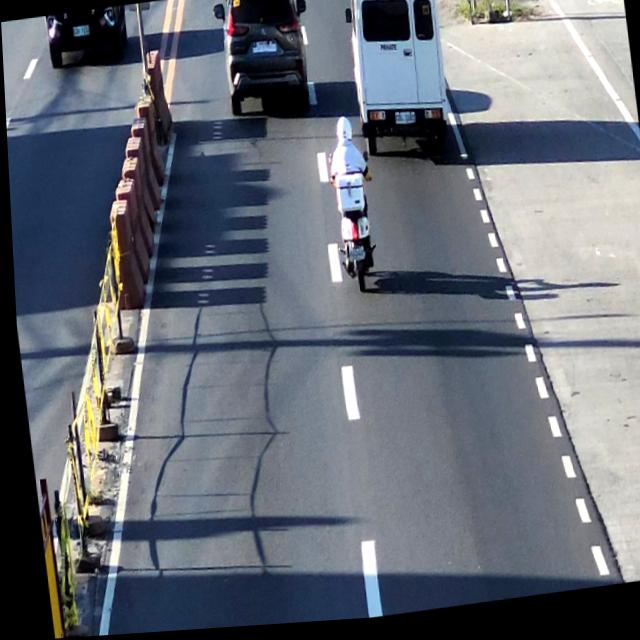Car: (343, 0, 449, 169), (212, 0, 310, 115)
License-Plate: (249, 41, 279, 61), (343, 250, 365, 270), (392, 114, 415, 132)
Motorcycle: (324, 112, 373, 294)
